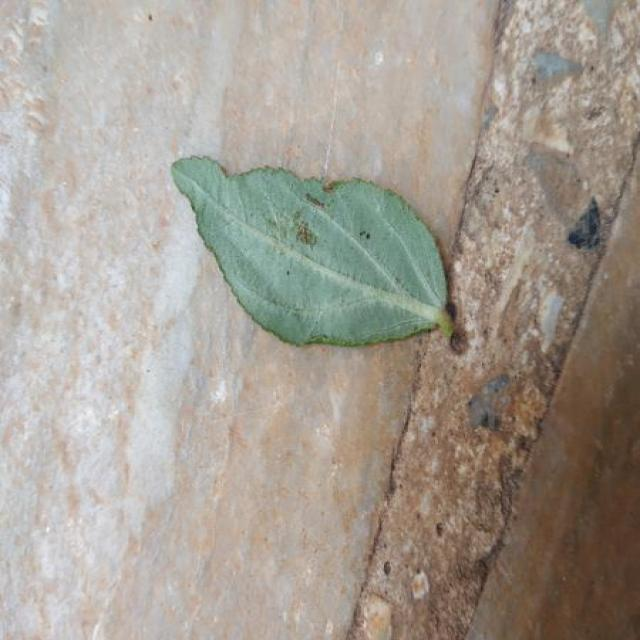Astma_weed: (172, 158, 453, 344)
defectetedAstma_weed: (293, 180, 390, 272)
